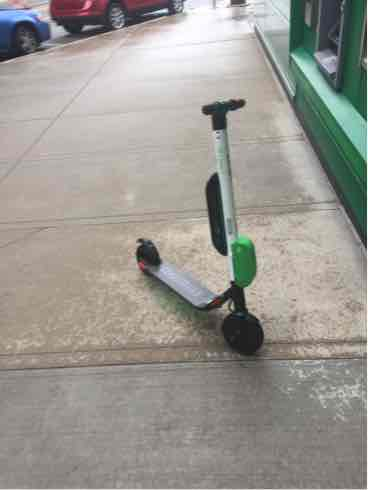scooter: (120, 89, 271, 370)
